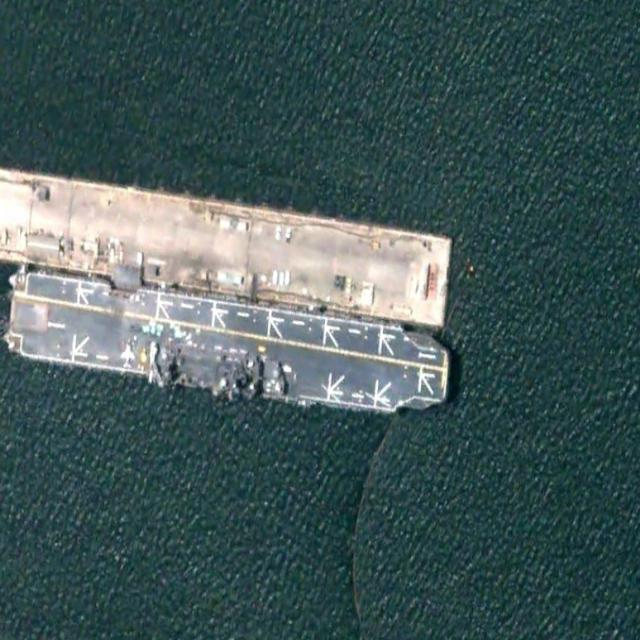Landing: (4, 264, 452, 424)
